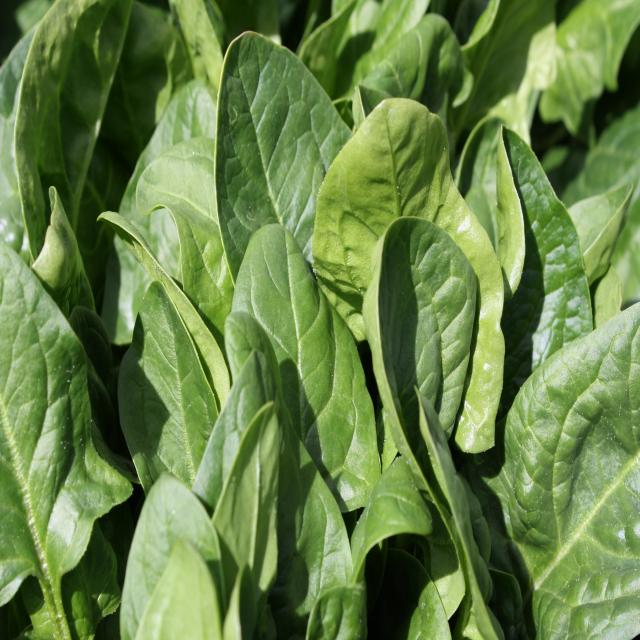spinach: (510, 311, 640, 640), (0, 248, 97, 595), (237, 225, 338, 447), (378, 217, 471, 450), (213, 32, 314, 230), (124, 287, 211, 478), (320, 99, 452, 216), (117, 476, 221, 565)
